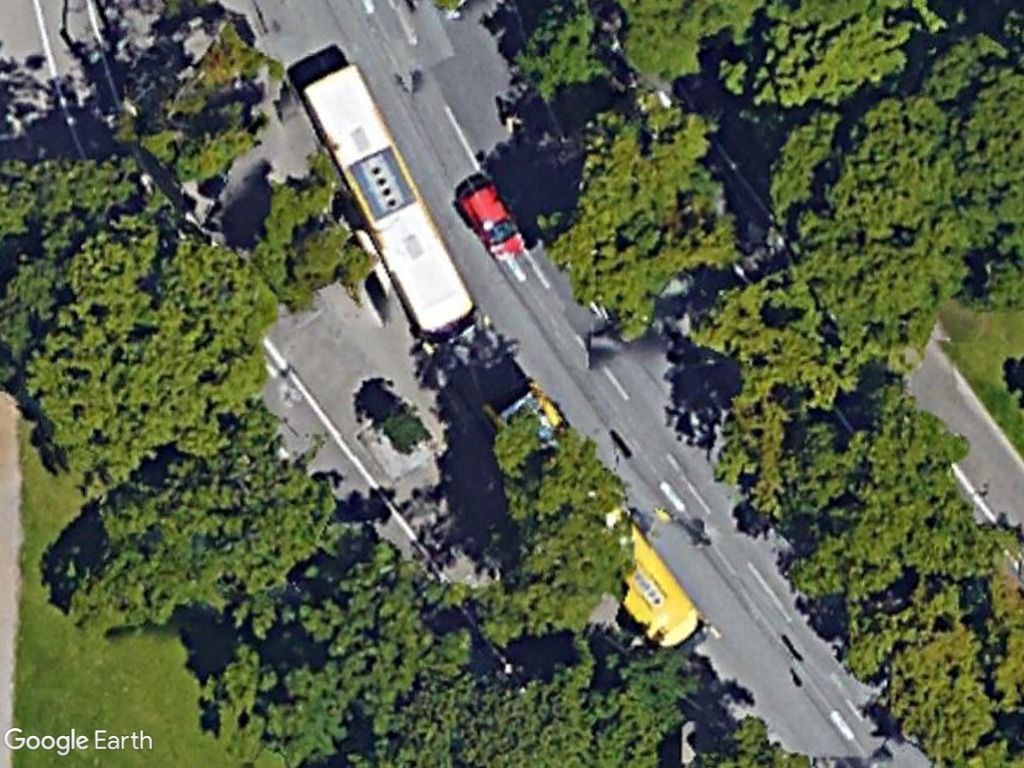bus: (296, 65, 480, 341)
car: (451, 170, 539, 264)
